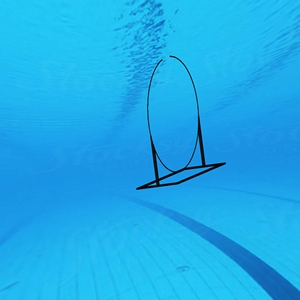circle: (133, 54, 228, 192)
